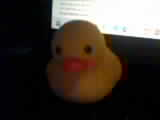duck: (40, 23, 116, 109)
